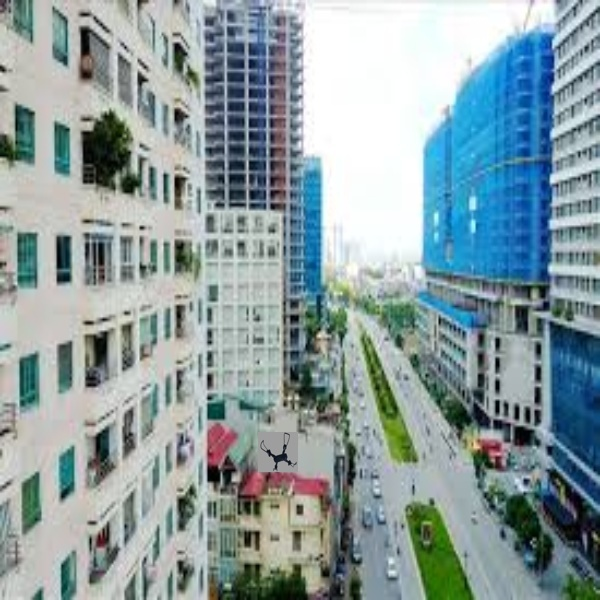drone: (258, 434, 300, 474)
